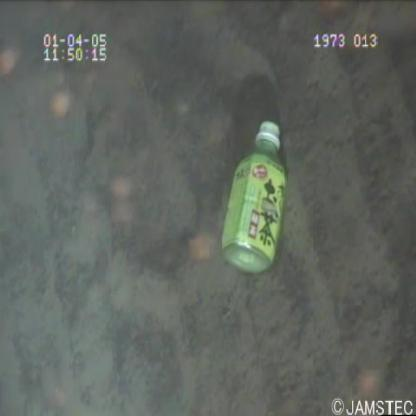Rác: (218, 115, 293, 283)
